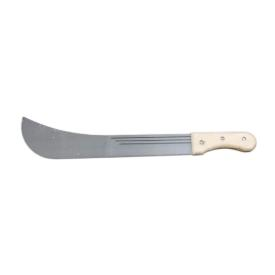MACHETTE: (4, 114, 268, 181)
